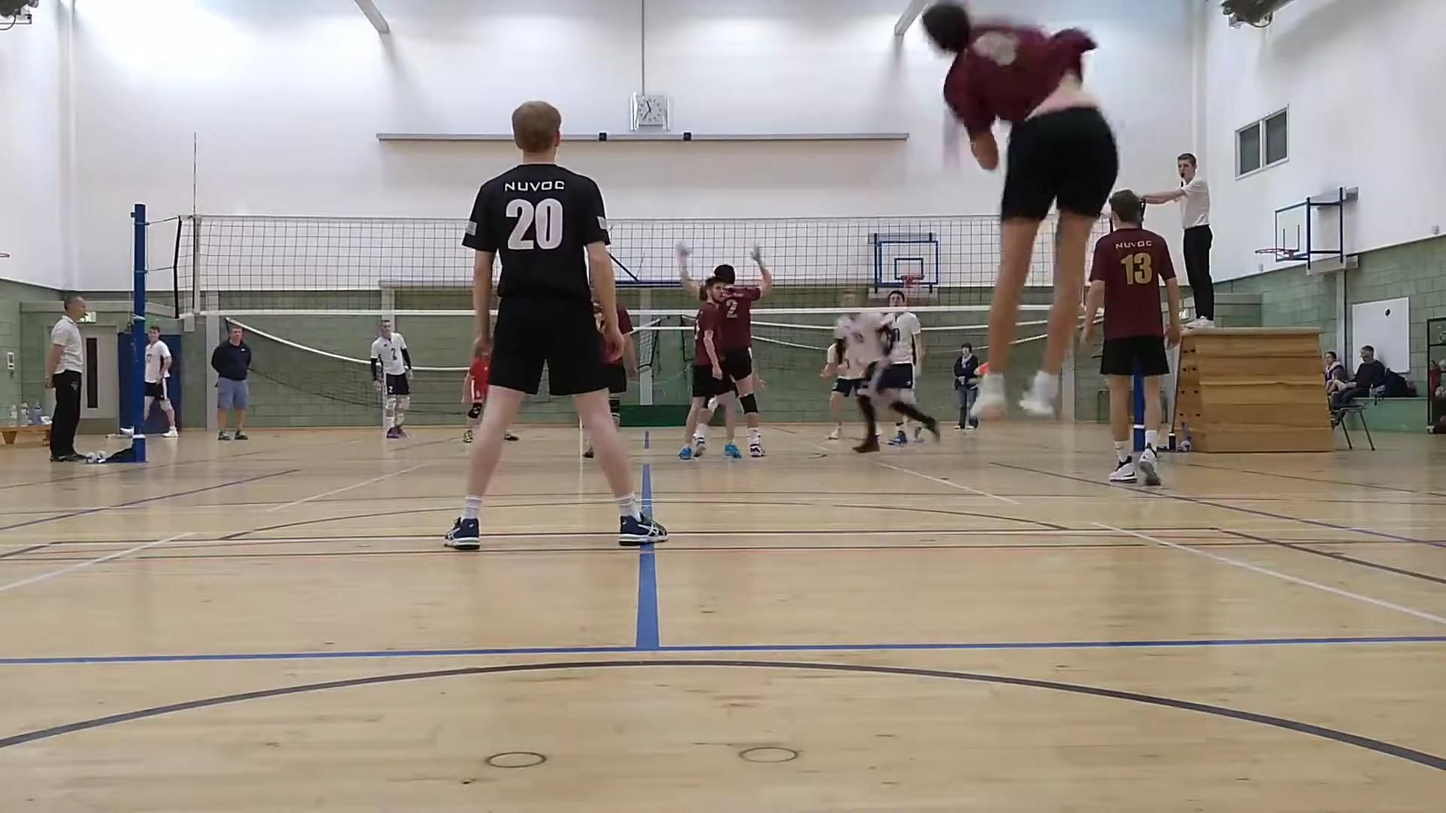battuta: (924, 0, 1121, 437)
